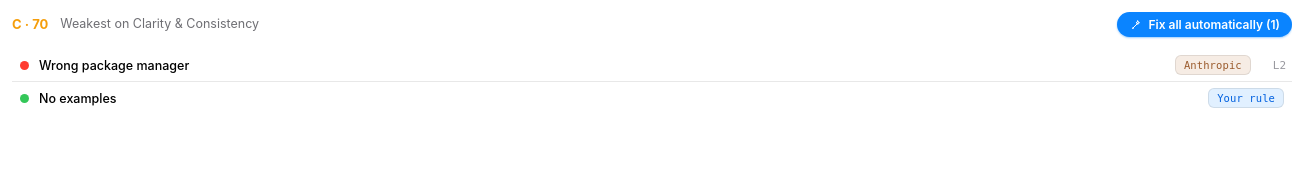
Test: Findings › says why Fix all failed
Click the button "Fix all automatically (1)": (1204, 24) [1116, 12, 1292, 37]
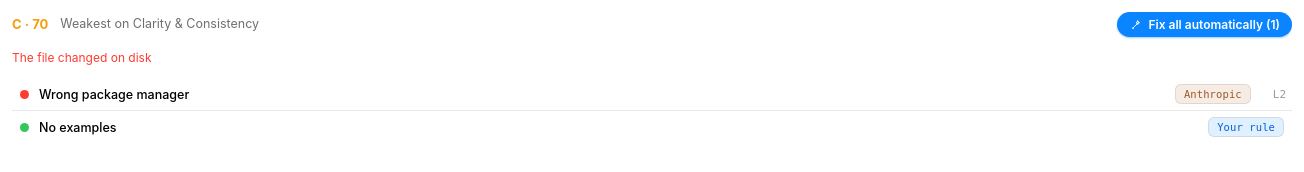
expect the message reads "The file changed on disk": met, box [12, 50, 152, 65]
